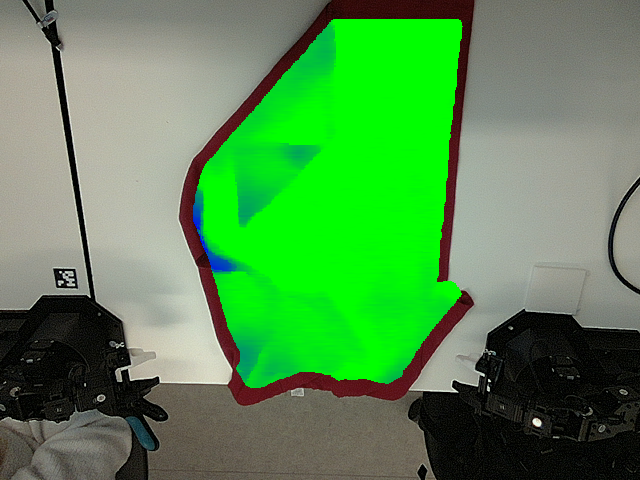V: (231, 138, 268, 177)
